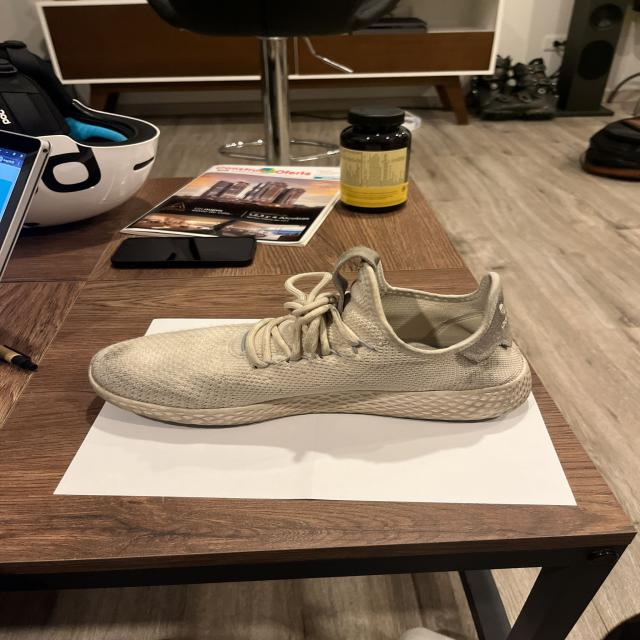shoes: (85, 244, 538, 428)
